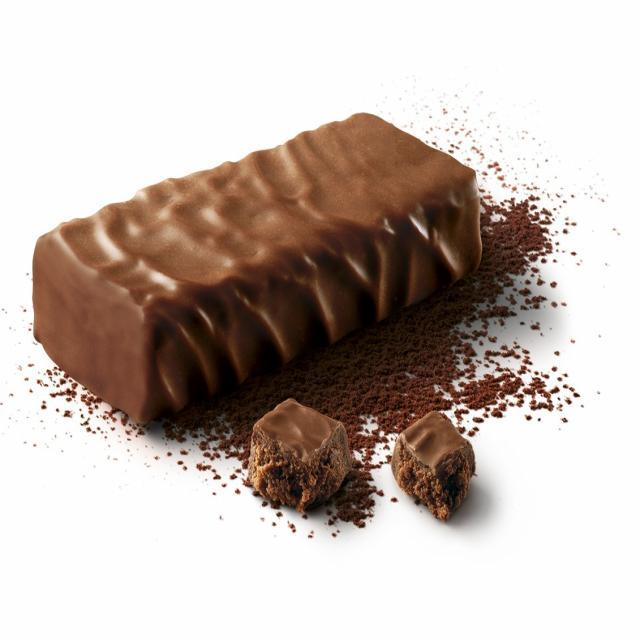Chocolate bar packaged: (33, 111, 490, 427), (388, 400, 483, 527), (248, 397, 356, 507)
